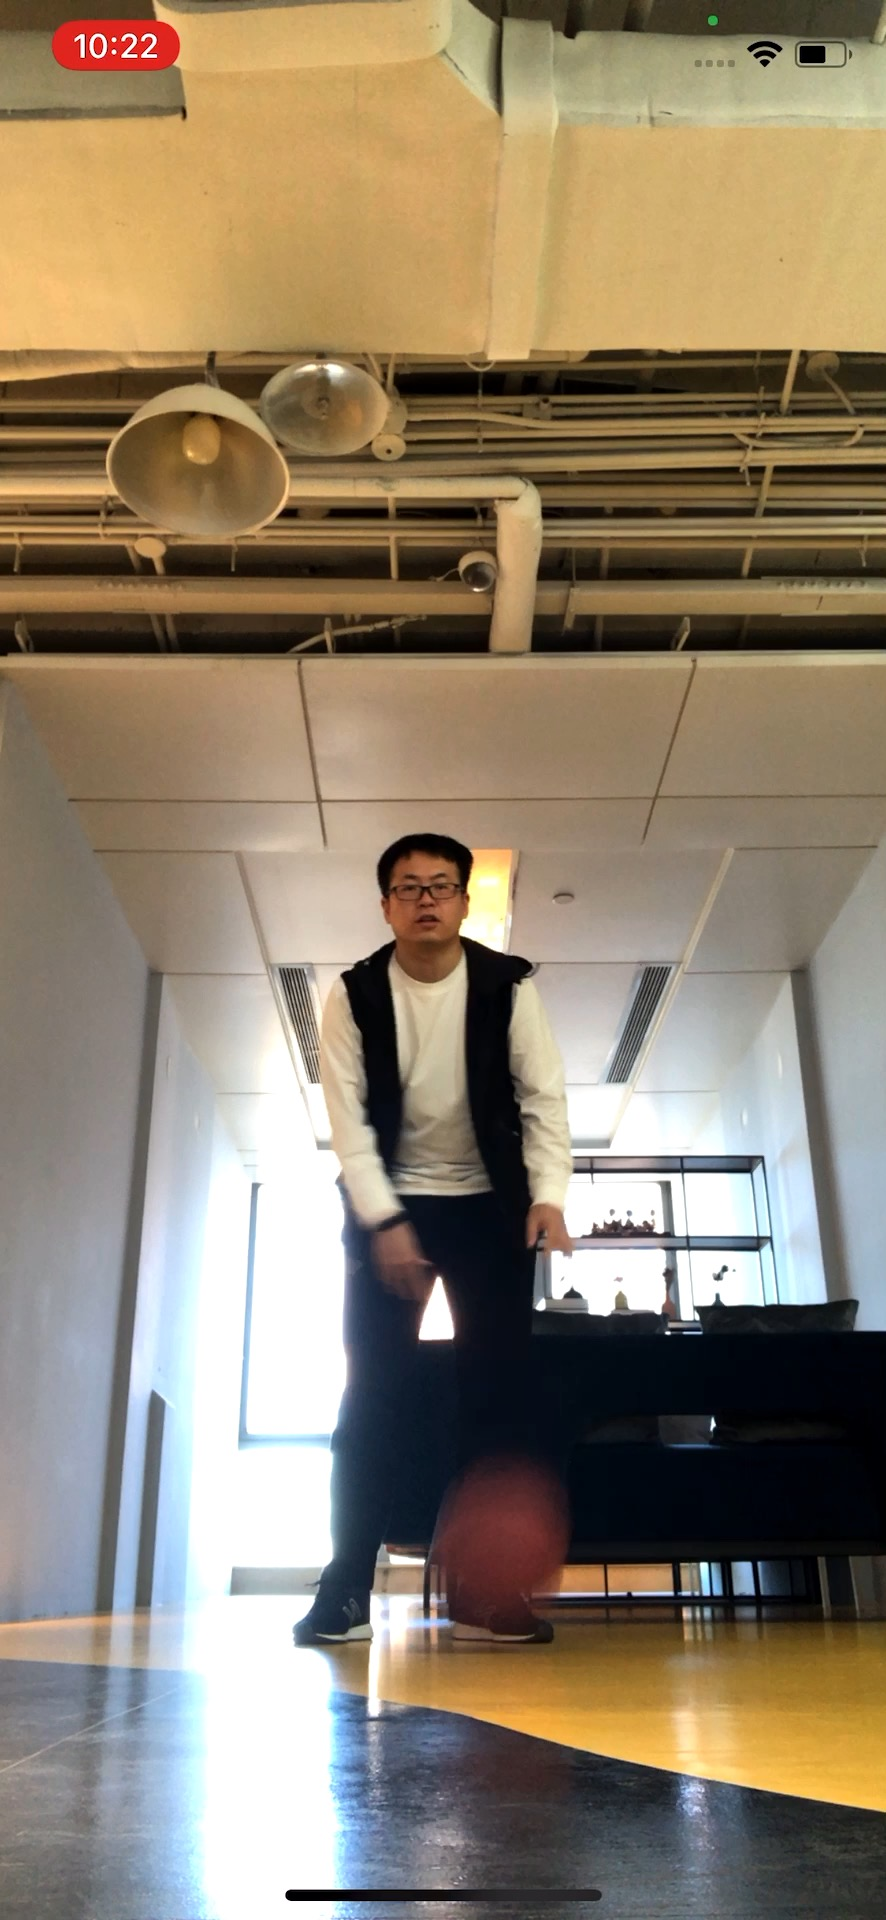ball: (437, 1476, 567, 1608)
